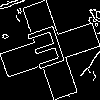E: (25, 25, 71, 79)
